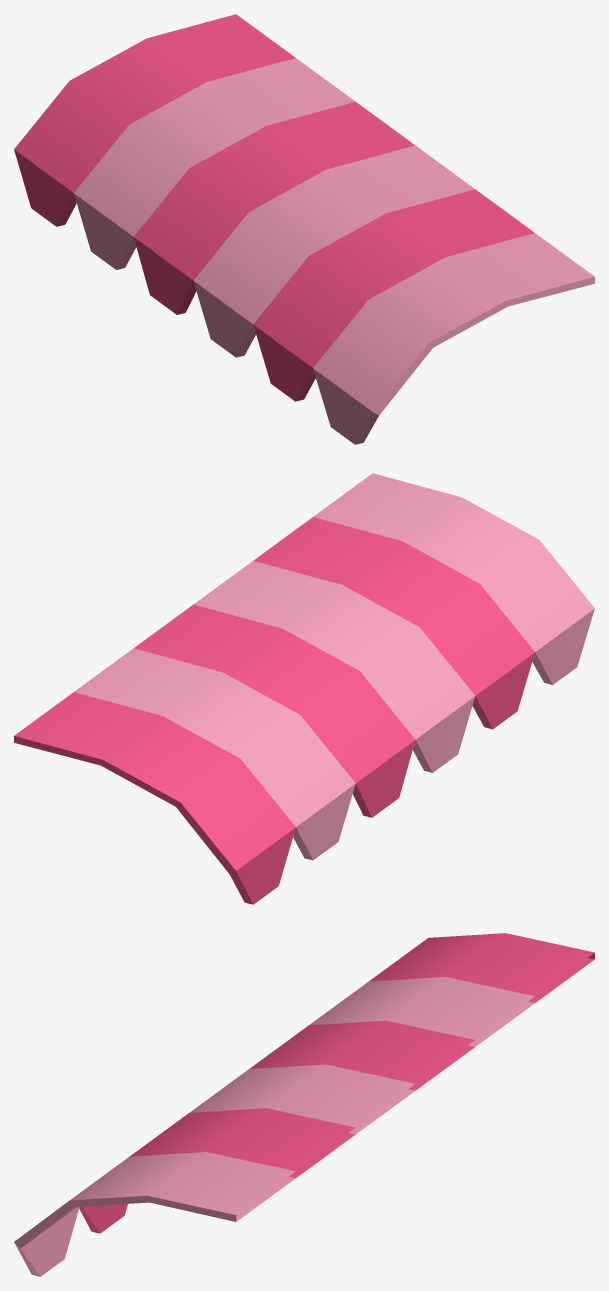
The model's file is Awning_3_F.fbx.
The picture shows the model from 3 angles, top to bottom: view 1: azimuth 30°, elevation 25°; view 2: azimuth 150°, elevation 25°; view 3: azimuth 330°, elevation 25°; orthographic projection.
Parts seen in each view (by area): view 1: Awning_3_F; view 2: Awning_3_F; view 3: Awning_3_F.
Part boxes in pixels (<box>): Awning_3_F: <box>14,14,594,444</box>; Awning_3_F: <box>14,473,594,904</box>; Awning_3_F: <box>14,933,594,1276</box>.
Bounding box in the file's own units: 99.94 × 54.72 × 280.
